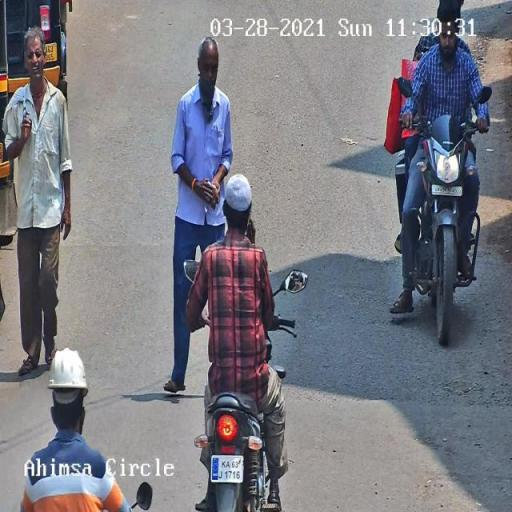using mobile: (246, 210, 256, 246)
